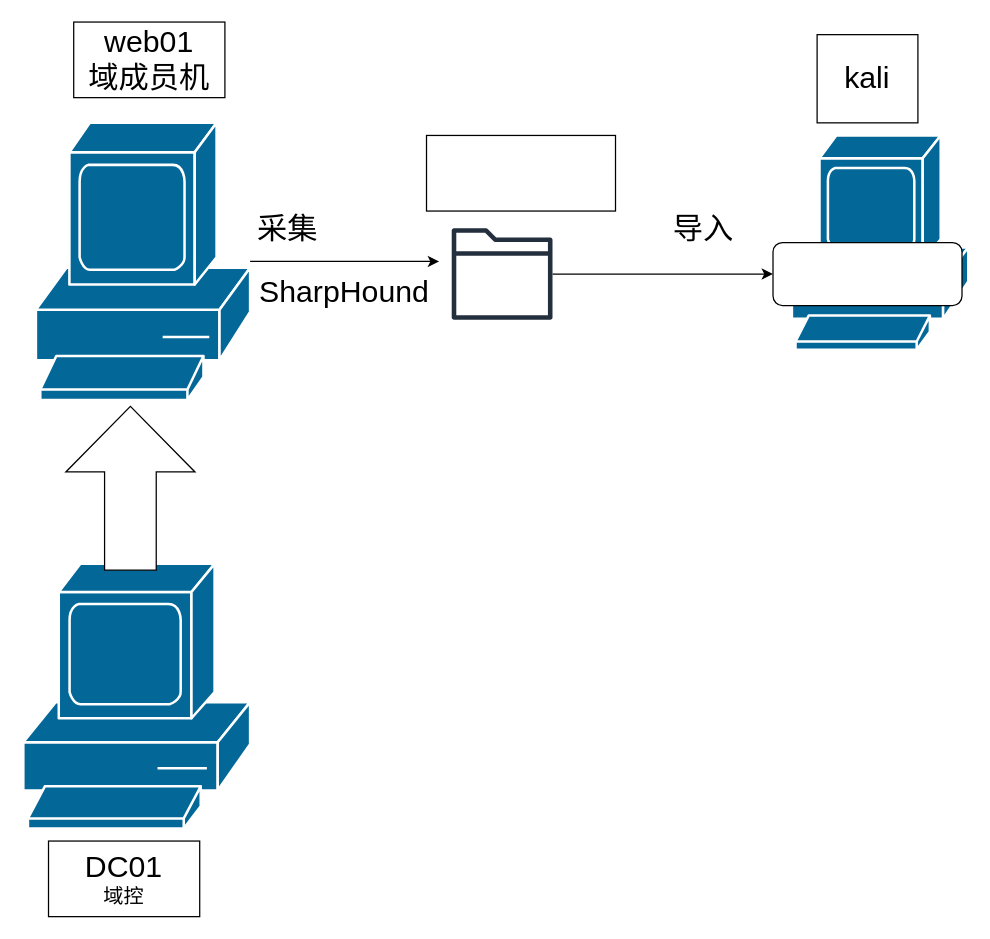
This 990x939 diagram has some shape labels left out. The centre of each missing label's shape, as x and y in pixels:
BloodHound: the point at 867,273
数据文件.zip: the point at 520,172
